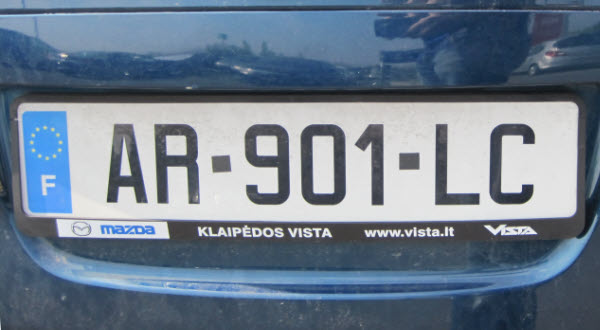license_plate: (16, 102, 580, 219)
